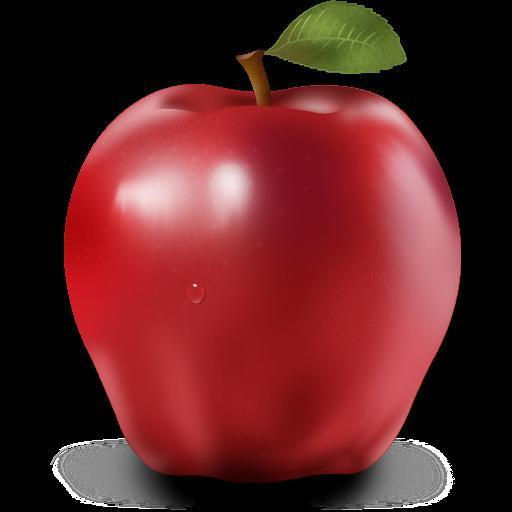apple: (65, 85, 459, 481)
